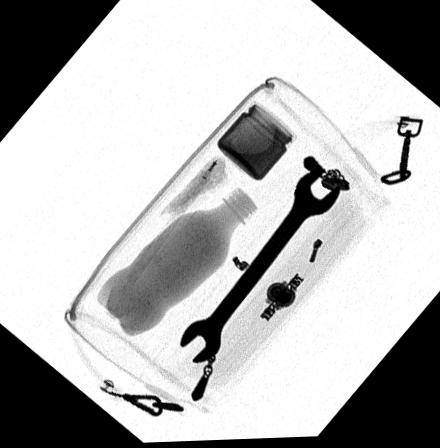Wrench: (179, 167, 342, 366)
